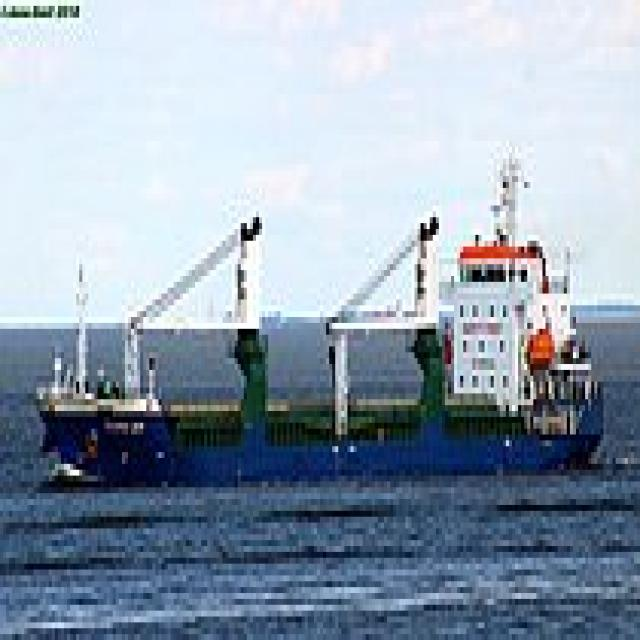Cargo: (28, 141, 604, 493)
